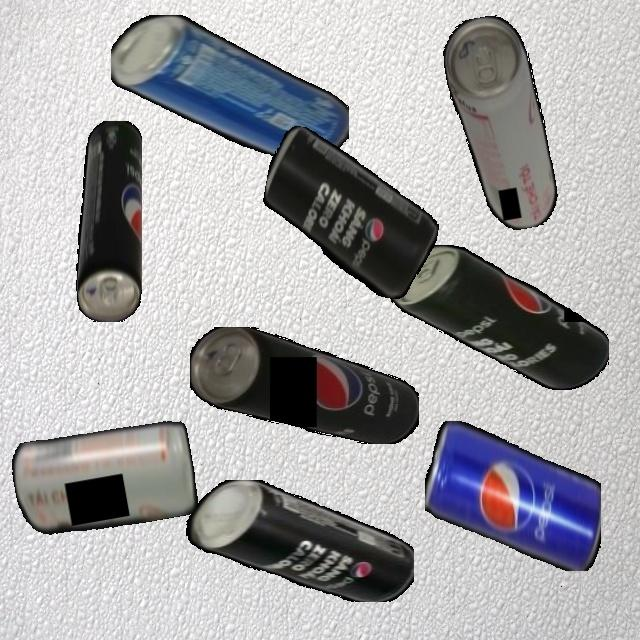debris: (251, 123, 451, 304), (110, 15, 349, 161), (390, 245, 609, 390), (179, 480, 414, 602), (438, 10, 562, 237), (190, 326, 419, 444), (424, 420, 601, 571), (8, 415, 201, 543), (75, 120, 142, 322)
